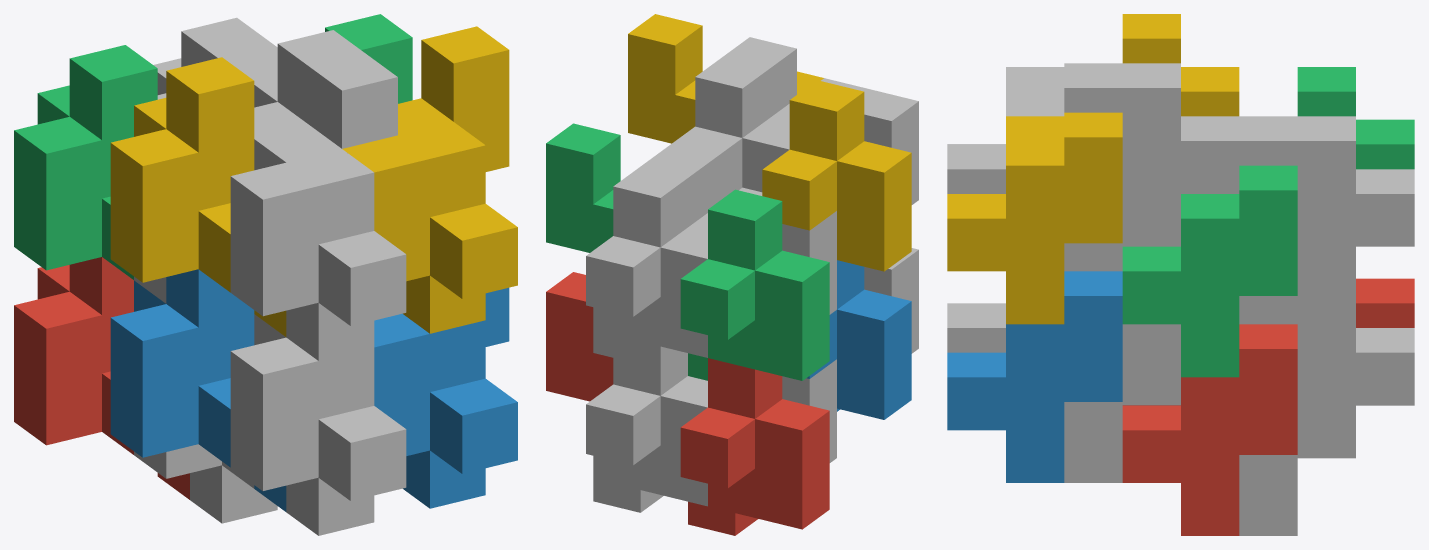
File: tiling.obj
3 views of the same model, side by side, from view 1: azimuth 30°, elevation 25°; view 2: azimuth 150°, elevation 25°; view 3: azimuth 270°, elevation 25° (orthographic). The views are drawn at different scales.
Parts seen in each view (by area): view 1: copy_2_domain_4, copy_2_domain_8, copy_2_domain_2, copy_1_domain_4, copy_1_domain_2, copy_2_domain_6, copy_1_domain_3, copy_1_domain_1, copy_1_domain_8, copy_2_domain_1, copy_2_domain_7, copy_1_domain_7 (+1 smaller); view 2: copy_1_domain_3, copy_1_domain_1, copy_1_domain_4, copy_1_domain_7, copy_1_domain_5, copy_1_domain_2, copy_1_domain_8, copy_2_domain_8, copy_2_domain_7, copy_2_domain_4, copy_2_domain_5, copy_2_domain_3 (+2 smaller); view 3: copy_2_domain_8, copy_2_domain_7, copy_2_domain_6, copy_2_domain_5, copy_1_domain_5, copy_1_domain_7, copy_1_domain_8, copy_1_domain_6, copy_2_domain_4, copy_1_domain_3, copy_1_domain_4, copy_1_domain_1 (+2 smaller).
Part boxes in pixels (left/top/right/bottom): copy_2_domain_4: left=230, top=53, right=406, bottom=360; copy_2_domain_8: left=342, top=26, right=517, bottom=333; copy_2_domain_2: left=230, top=314, right=406, bottom=535; copy_1_domain_4: left=110, top=57, right=286, bottom=336; copy_1_domain_2: left=110, top=269, right=286, bottom=511; copy_2_domain_6: left=374, top=287, right=517, bottom=508; copy_1_domain_3: left=14, top=45, right=157, bottom=279; copy_1_domain_1: left=14, top=257, right=189, bottom=499; copy_1_domain_8: left=250, top=30, right=365, bottom=138; copy_2_domain_1: left=134, top=444, right=277, bottom=523; copy_2_domain_7: left=325, top=14, right=412, bottom=103; copy_1_domain_7: left=153, top=17, right=268, bottom=99; copy_1_domain_3: left=680, top=189, right=829, bottom=380; copy_1_domain_1: left=680, top=358, right=829, bottom=535; copy_1_domain_4: left=762, top=80, right=911, bottom=271; copy_1_domain_7: left=586, top=166, right=707, bottom=357; copy_1_domain_5: left=586, top=335, right=707, bottom=512; copy_1_domain_2: left=806, top=260, right=911, bottom=419; copy_1_domain_8: left=668, top=57, right=789, bottom=203; copy_2_domain_8: left=628, top=14, right=823, bottom=143; copy_2_domain_7: left=546, top=123, right=620, bottom=252; copy_2_domain_4: left=723, top=37, right=918, bottom=204; copy_2_domain_5: left=546, top=272, right=613, bottom=401; copy_2_domain_3: left=641, top=146, right=836, bottom=314; copy_2_domain_8: left=947, top=112, right=1122, bottom=324; copy_2_domain_7: left=1122, top=165, right=1297, bottom=377; copy_2_domain_6: left=947, top=271, right=1122, bottom=482; copy_2_domain_5: left=1122, top=324, right=1297, bottom=535; copy_1_domain_5: left=1239, top=299, right=1414, bottom=535; copy_1_domain_7: left=1239, top=116, right=1414, bottom=324; copy_1_domain_8: left=1064, top=63, right=1239, bottom=271; copy_1_domain_6: left=1064, top=324, right=1180, bottom=482; copy_2_domain_4: left=947, top=63, right=1122, bottom=193; copy_1_domain_3: left=1297, top=67, right=1414, bottom=169; copy_1_domain_4: left=1122, top=14, right=1239, bottom=116; copy_1_domain_1: left=1356, top=278, right=1414, bottom=327.
Size of the model in its own units: 6 by 8 by 8.
